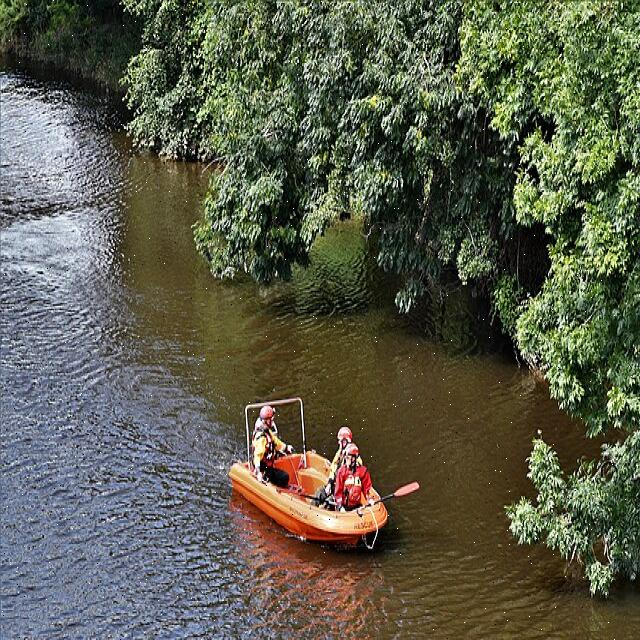rescuer: (253, 402, 283, 478), (336, 443, 366, 509)
